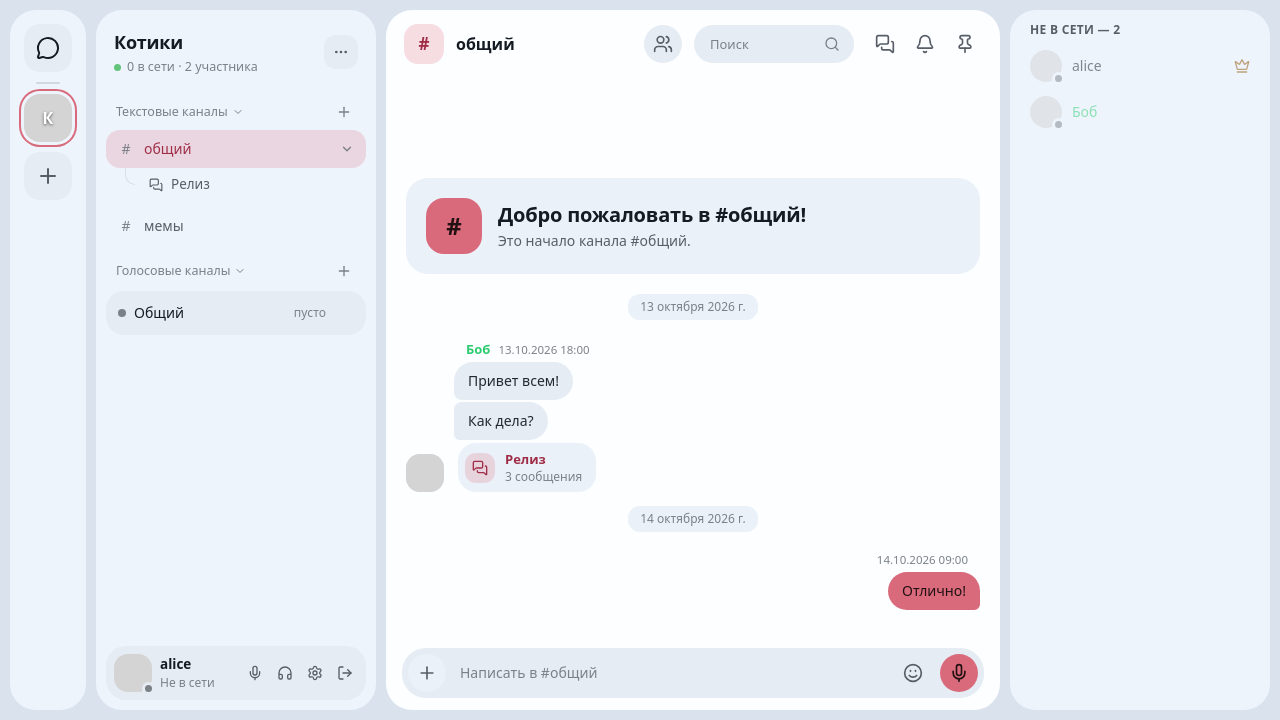
Test: threads › open beside their channel from the starter message
Expected: the text "Как дела?" is shown, [468,411,534,431]
Click the link with aria-label "Тред «Релиз» — 3 сообщения": (527, 468) [458,443,596,492]
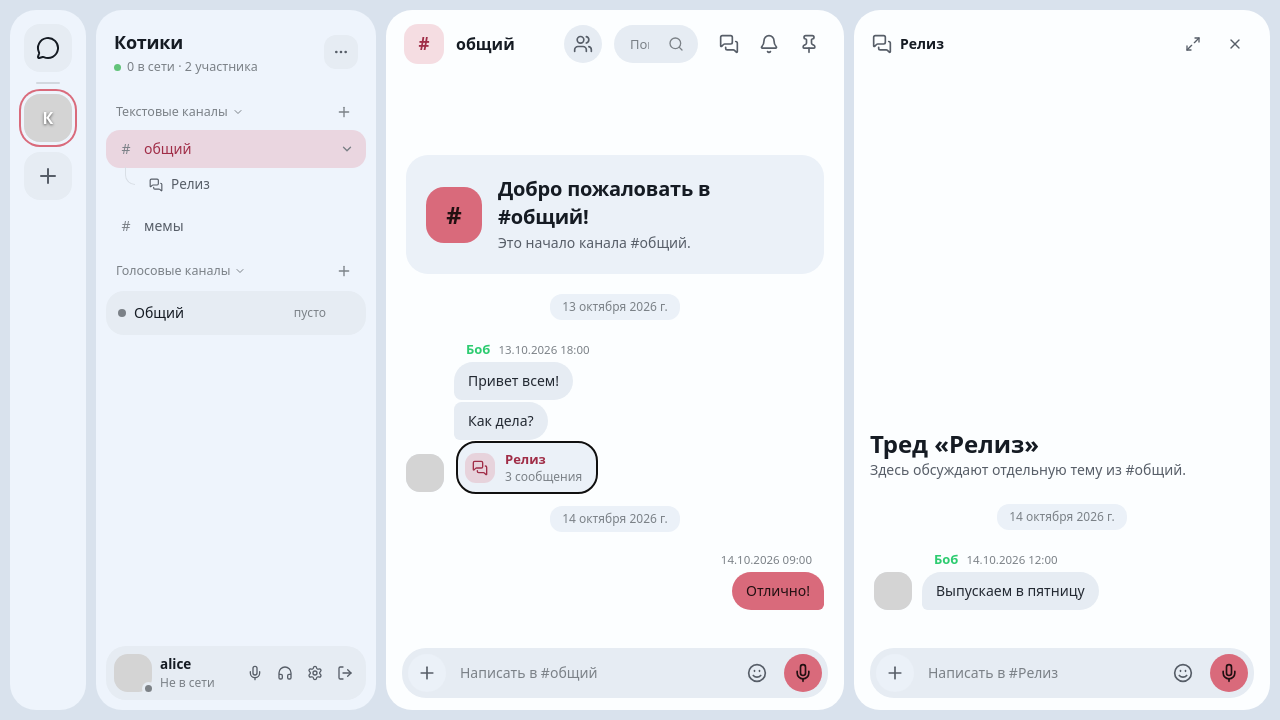
Expected: the heading "общий" is shown, [456,32,515,56]
Now the text "Выпускаем в пятницу" is shown, box [936,581,1085,601]
In the text box named "Сообщение в #Релиз": (1039, 673) [922,654,1156,692], type "Ок"
Then press Enter
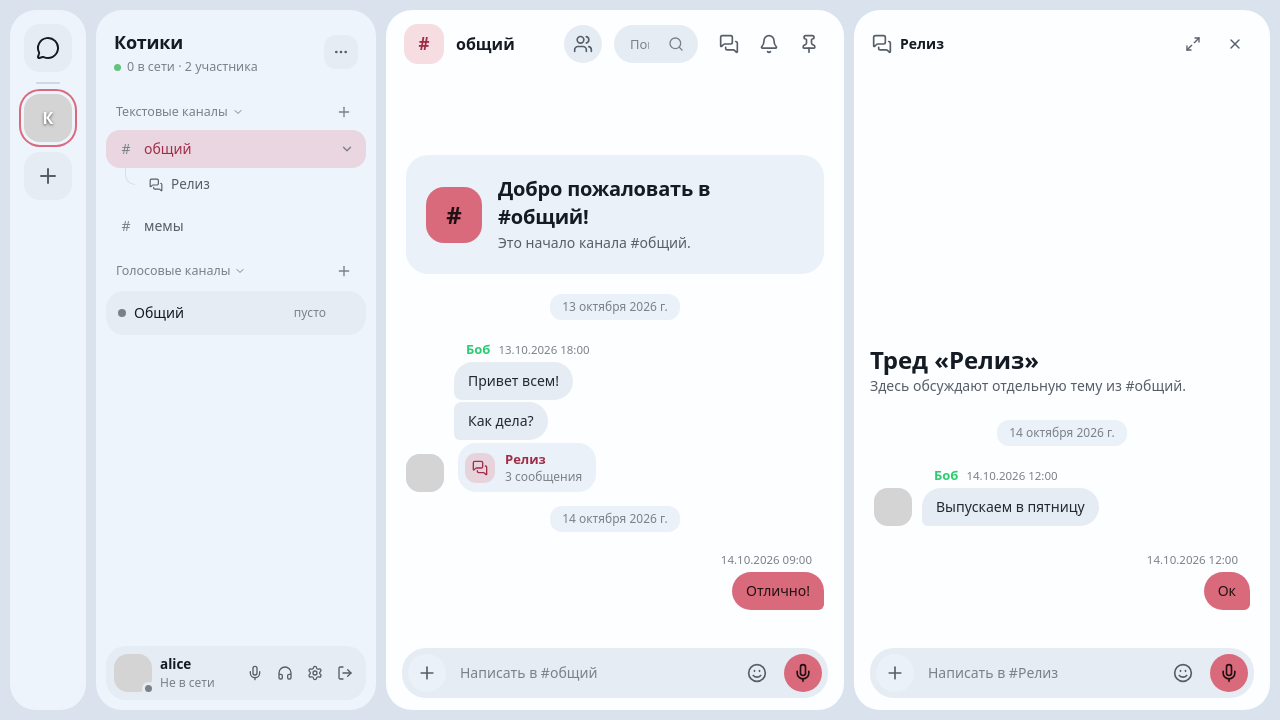
Click the button named "Закрыть тред": (1235, 44) [1218,27,1252,61]
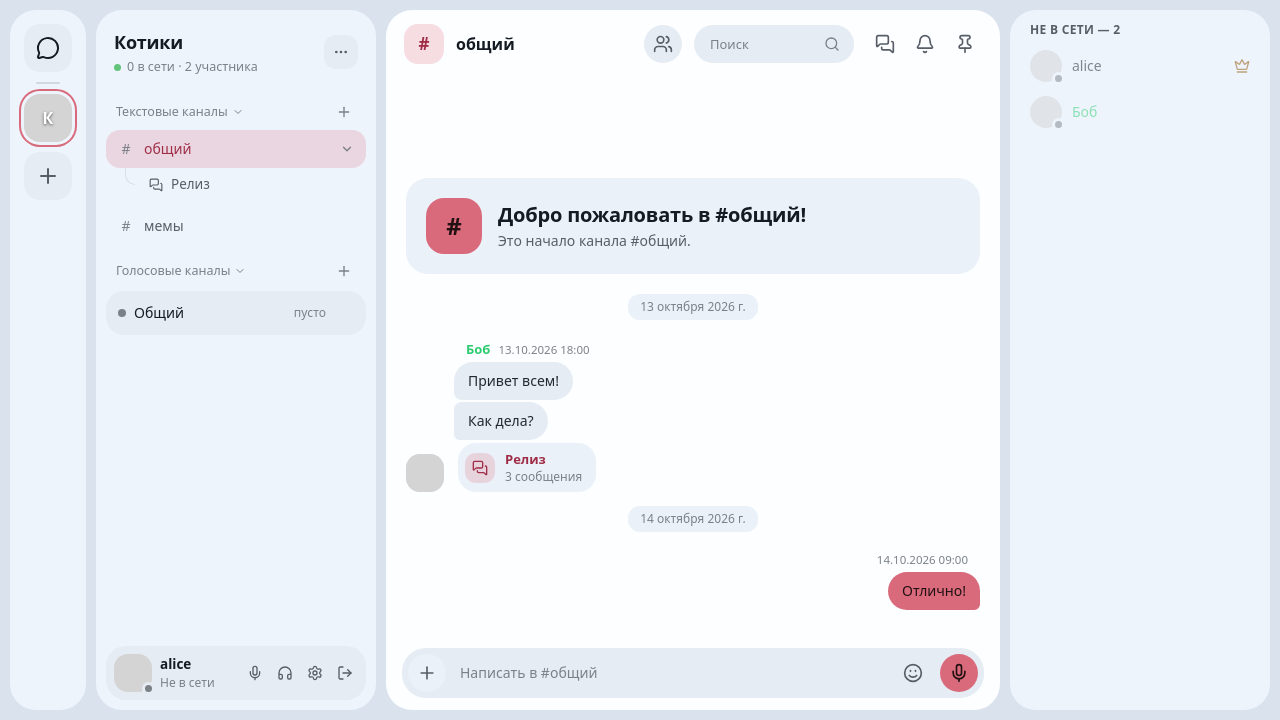
Now the heading "Тред «Релиз»" is gone
